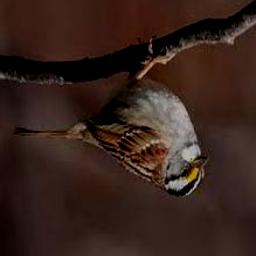Sparrow: (15, 37, 209, 197)
